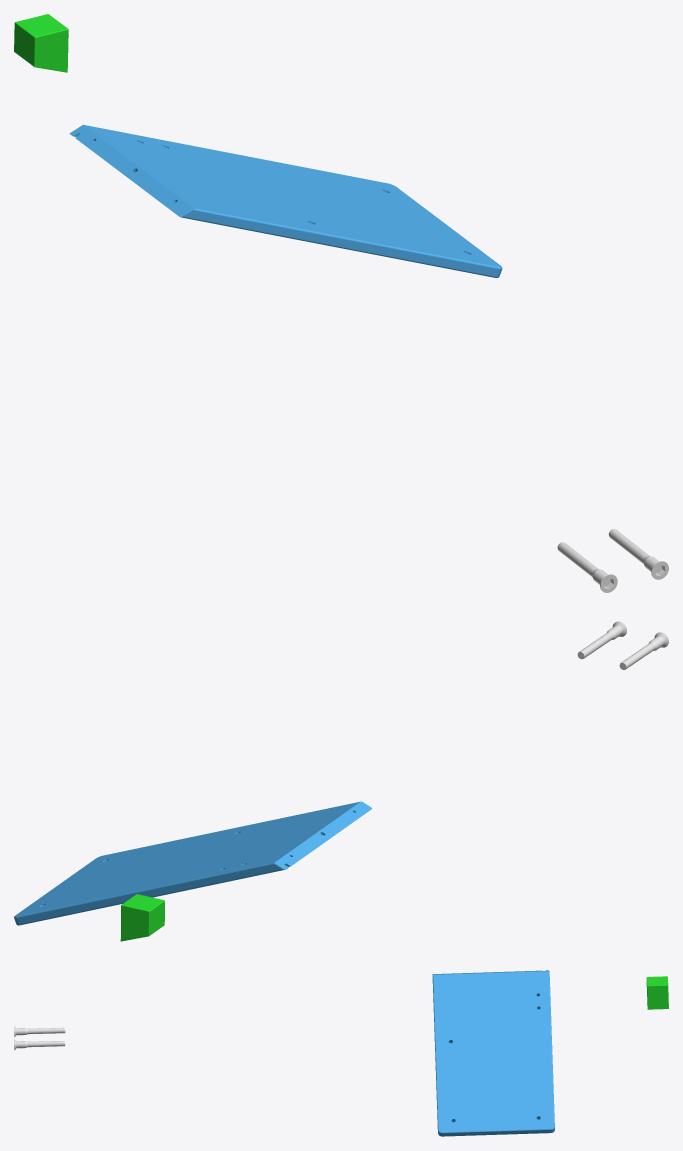
Rendered from step 5.glb.
The picture shows the model from 3 angles, top to bottom: view 1: azimuth 30°, elevation 25°; view 2: azimuth 150°, elevation 25°; view 3: azimuth 270°, elevation 25°; orthographic projection. The views are drawn at different scales.
Visible parts, largest first — view 1: 7, 12, น็อตหัวตัด.001, น็อตหัวตัด; view 2: 7, 12, น็อตหัวตัด.001, น็อตหัวตัด; view 3: 7, 12, น็อตหัวตัด, น็อตหัวตัด.001.
Part boxes in pixels (x1=…): 7: x1=69, y1=124, x2=502, y2=277; 12: x1=14, y1=14, x2=68, y2=72; น็อตหัวตัด.001: x1=557, y1=542, x2=617, y2=592; น็อตหัวตัด: x1=608, y1=529, x2=668, y2=579; 7: x1=14, y1=801, x2=372, y2=925; 12: x1=120, y1=894, x2=164, y2=941; น็อตหัวตัด.001: x1=619, y1=632, x2=668, y2=669; น็อตหัวตัด: x1=577, y1=621, x2=626, y2=659; 7: x1=432, y1=970, x2=554, y2=1136; 12: x1=646, y1=976, x2=668, y2=1009; น็อตหัวตัด: x1=14, y1=1039, x2=65, y2=1050; น็อตหัวตัด.001: x1=14, y1=1026, x2=65, y2=1037.
Bounding box in the file's own units: 2.31 × 1.1 × 7.35.
